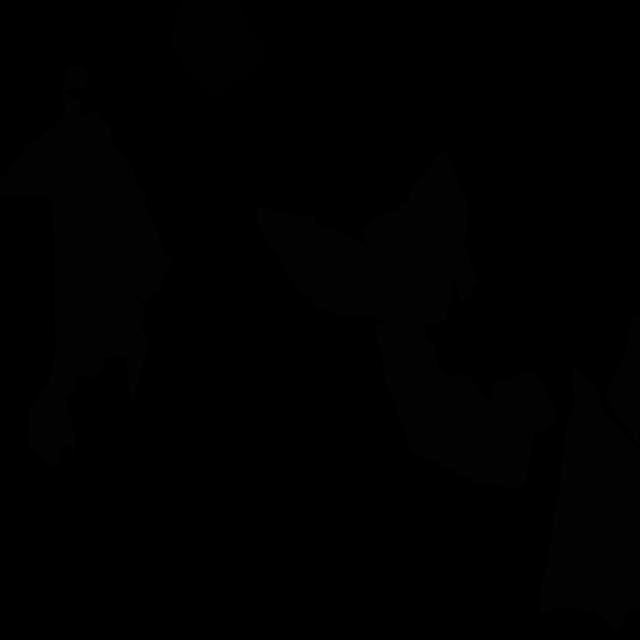cardboard: (362, 151, 558, 488), (0, 65, 173, 353), (539, 368, 640, 630), (28, 304, 148, 465), (257, 207, 398, 325), (606, 314, 640, 448)
rigid_plastic: (170, 0, 266, 97)
